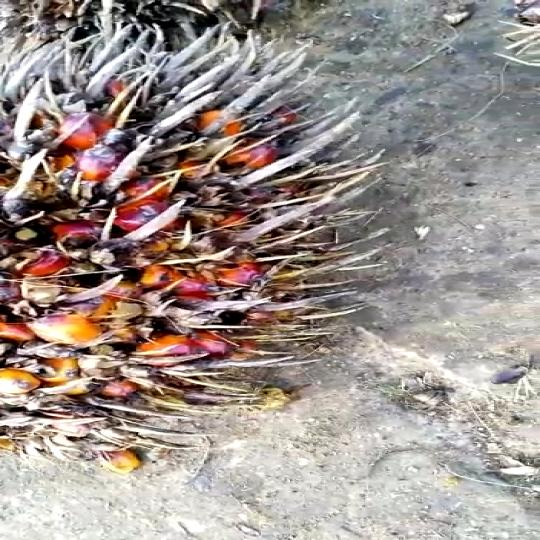terlalu masak: (0, 31, 407, 468)
